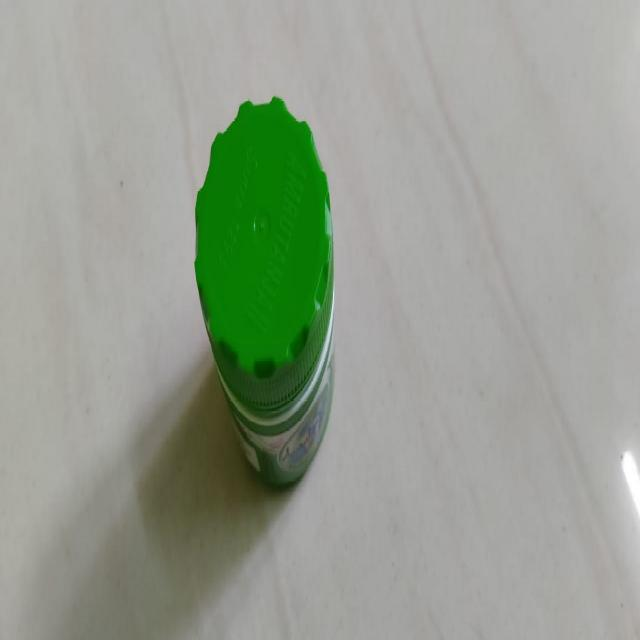eucalyptus oil: (178, 100, 347, 488)
